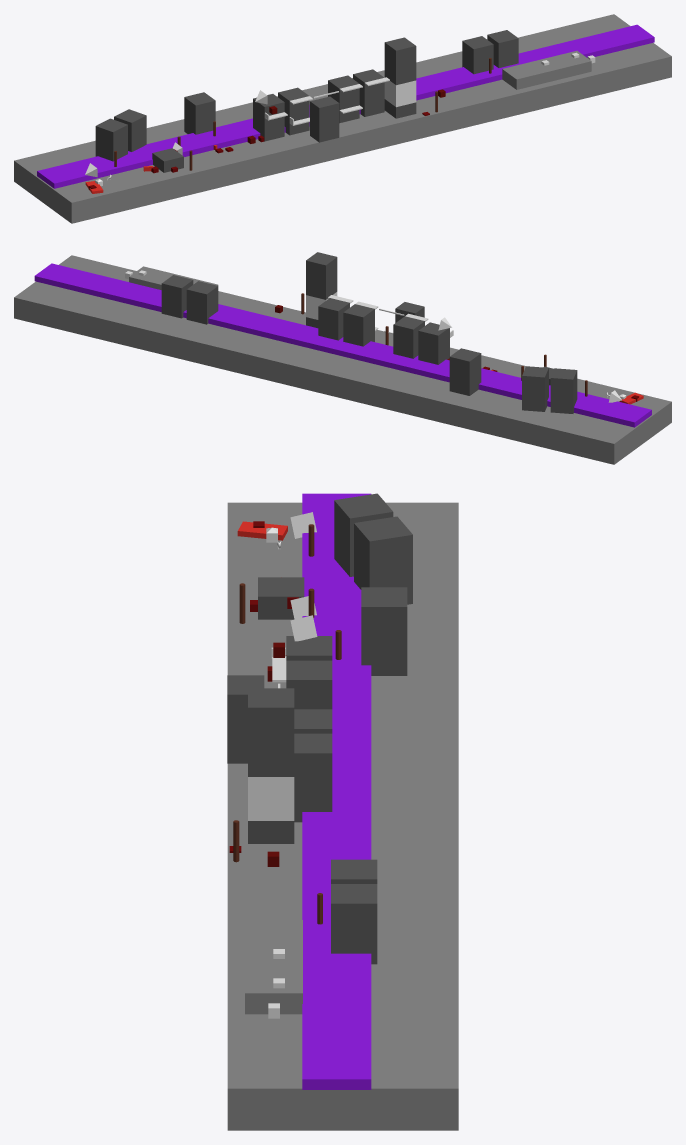
The model's file is map_city.gltf.
3 renders of one model, top to bottom at view 1: azimuth 30°, elevation 25°; view 2: azimuth 150°, elevation 25°; view 3: azimuth 270°, elevation 25°, orthographic. The views are drawn at different scales.
Parts seen in each view (by area): view 1: Ground.007, Flora, Ground.006, Blok.004, Blok.011, Blok.003, Blok.001, Blok.008, Blok.009, Blok.019, Blok.007, Blok.010 (+5 smaller); view 2: Ground.007, Flora, Blok.003, Blok.004, Blok.019, Blok.001, Blok.010, Blok, Blok.008, Blok.018, Blok.009, Blok.007 (+3 smaller); view 3: Ground.007, Flora, Ground.006, Blok.004, Blok.003, Blok, Blok.018, Blok.009, Blok.001, Blok.007, Blok.011, ground.010 (+5 smaller).
Part boxes in pixels (bbox=[...]): Ground.007: bbox=[14, 14, 671, 223]; Flora: bbox=[37, 24, 654, 188]; Ground.006: bbox=[502, 50, 591, 89]; Blok.004: bbox=[384, 37, 416, 85]; Blok.011: bbox=[310, 96, 339, 142]; Blok.003: bbox=[184, 92, 215, 134]; Blok.001: bbox=[95, 118, 127, 161]; Blok.008: bbox=[253, 94, 284, 141]; Blok.009: bbox=[353, 69, 384, 116]; Blok.019: bbox=[462, 36, 493, 74]; Blok.007: bbox=[278, 87, 309, 135]; Blok.010: bbox=[328, 75, 359, 123]; Ground.007: bbox=[14, 255, 671, 464]; Flora: bbox=[34, 263, 651, 427]; Blok.003: bbox=[449, 348, 481, 395]; Blok.004: bbox=[306, 252, 337, 299]; Blok.019: bbox=[186, 281, 218, 324]; Blok.001: bbox=[550, 368, 577, 413]; Blok.010: bbox=[343, 304, 374, 346]; Blok: bbox=[522, 366, 548, 411]; Blok.008: bbox=[418, 322, 449, 364]; Blok.018: bbox=[161, 275, 193, 318]; Blok.009: bbox=[318, 298, 349, 340]; Blok.007: bbox=[393, 316, 424, 358]; Ground.007: bbox=[227, 502, 458, 1130]; Flora: bbox=[302, 493, 371, 1089]; Ground.006: bbox=[245, 920, 302, 1014]; Blok.004: bbox=[248, 688, 294, 776]; Blok.003: bbox=[361, 587, 407, 675]; Blok: bbox=[354, 516, 412, 604]; Blok.018: bbox=[331, 884, 377, 964]; Blok.009: bbox=[294, 733, 332, 822]; Blok.001: bbox=[334, 493, 393, 576]; Blok.007: bbox=[286, 660, 332, 709]; Blok.011: bbox=[227, 675, 264, 763]; ground.010: bbox=[248, 777, 294, 820].
Size of the model in its own units: 120 by 17 by 20.05.
